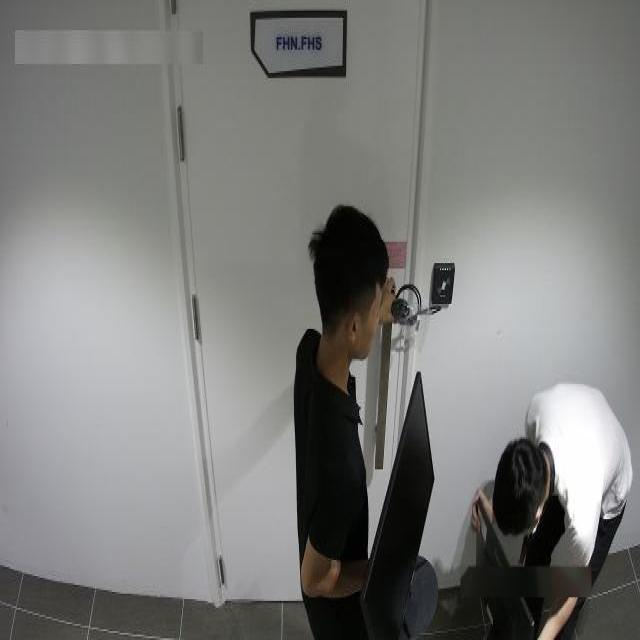bare_hand: (464, 473, 496, 537)
